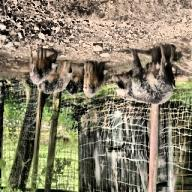boar: (112, 44, 176, 106), (36, 61, 72, 95), (28, 47, 59, 86), (83, 61, 105, 98)
